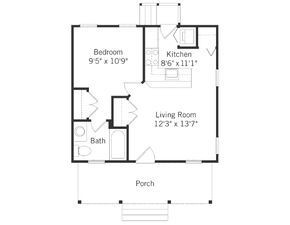room: (126, 89, 222, 164), (139, 19, 224, 90), (68, 20, 148, 88), (70, 87, 134, 167)
wall: (69, 23, 75, 165), (141, 19, 147, 81), (214, 86, 220, 137), (109, 94, 116, 132), (176, 22, 218, 28), (215, 27, 219, 72), (125, 126, 129, 161), (106, 159, 134, 164), (97, 23, 120, 29), (153, 159, 186, 163), (176, 43, 196, 49), (114, 93, 131, 100), (136, 23, 162, 27), (72, 86, 89, 92), (110, 125, 128, 130), (202, 158, 219, 163), (196, 24, 199, 48), (71, 118, 92, 121), (73, 159, 87, 163)
window: (211, 138, 221, 155), (214, 70, 223, 86), (87, 159, 110, 164), (186, 159, 202, 165), (122, 23, 135, 30), (161, 22, 176, 28), (80, 22, 96, 27)
